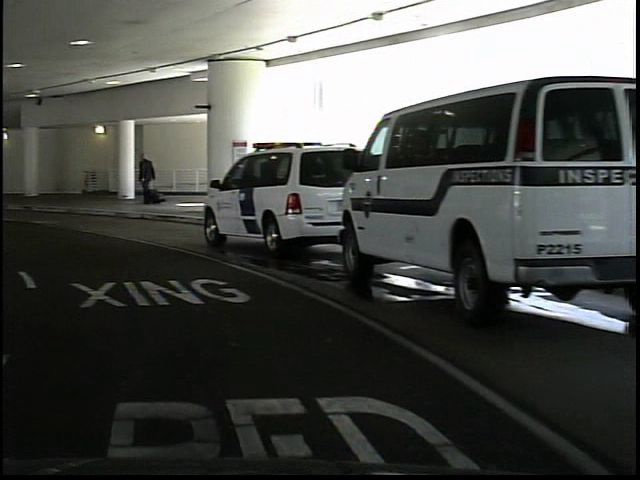person: (131, 149, 156, 208)
